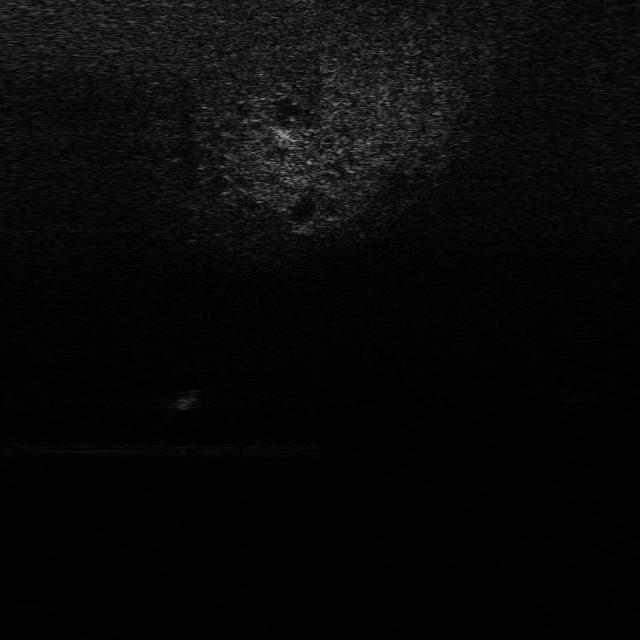cylinder: (161, 382, 198, 426)
